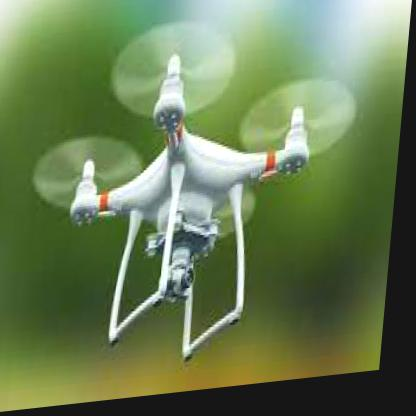UAS: (21, 11, 367, 381)
